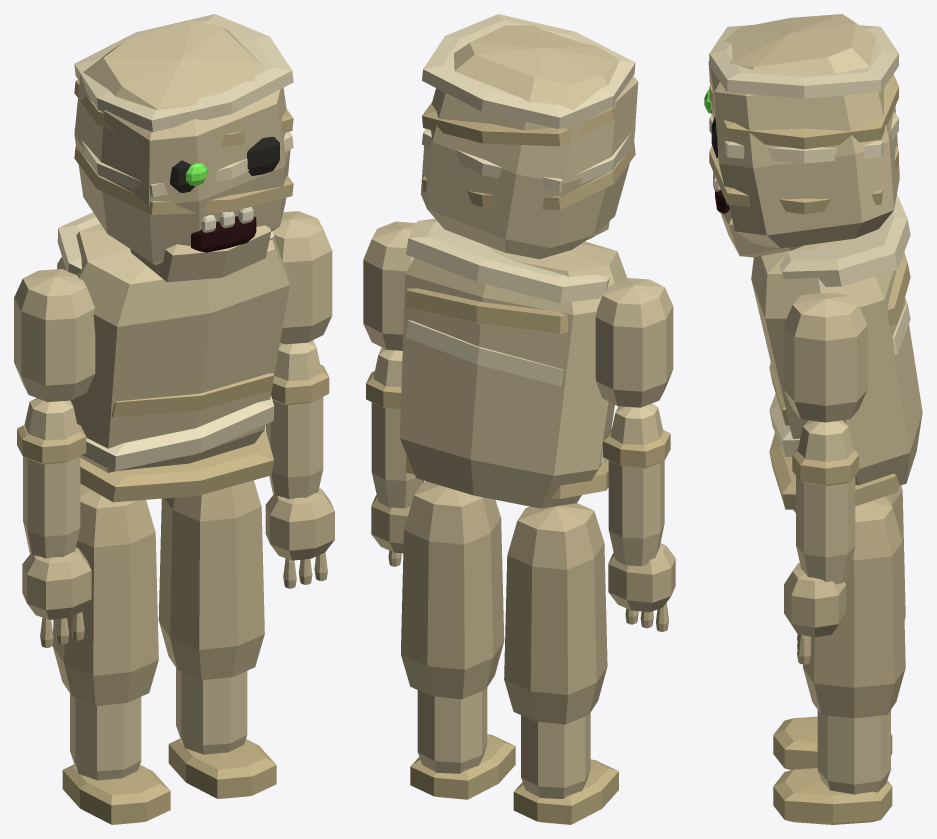
The model's file is mon-mummy-1.glb.
The picture shows the model from 3 angles, left to right: view 1: azimuth 30°, elevation 25°; view 2: azimuth 150°, elevation 25°; view 3: azimuth 270°, elevation 25°; orthographic projection. The views are drawn at different scales.
Parts seen in each view (by area): view 1: head, torso, leg-left, leg-right, arm-right, arm-left; view 2: torso, head, leg-right, leg-left, arm-right, arm-left; view 3: head, leg-left, torso, arm-left, leg-right.
Part boxes in pixels (bbox=[...]): head: bbox=[74, 14, 293, 282]; torso: bbox=[57, 212, 289, 502]; leg-left: bbox=[158, 480, 276, 798]; leg-right: bbox=[52, 483, 170, 824]; arm-right: bbox=[14, 269, 95, 647]; arm-left: bbox=[265, 211, 334, 588]; torso: bbox=[400, 218, 627, 508]; head: bbox=[421, 14, 638, 259]; leg-right: bbox=[504, 503, 618, 824]; leg-left: bbox=[401, 481, 515, 799]; arm-right: bbox=[595, 278, 675, 631]; arm-left: bbox=[363, 221, 424, 566]; head: bbox=[704, 14, 899, 257]; leg-left: bbox=[773, 496, 905, 824]; torso: bbox=[751, 194, 922, 509]; arm-left: bbox=[783, 293, 867, 664]; leg-right: bbox=[773, 485, 905, 770].
Size of the model in its own units: 0.9745 by 2.32 by 0.6099.
